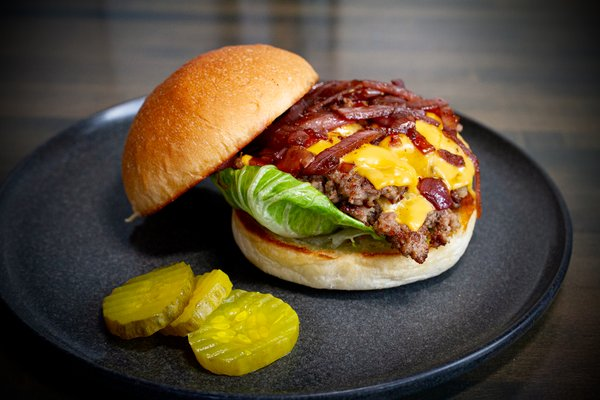soup: (121, 43, 483, 292)
